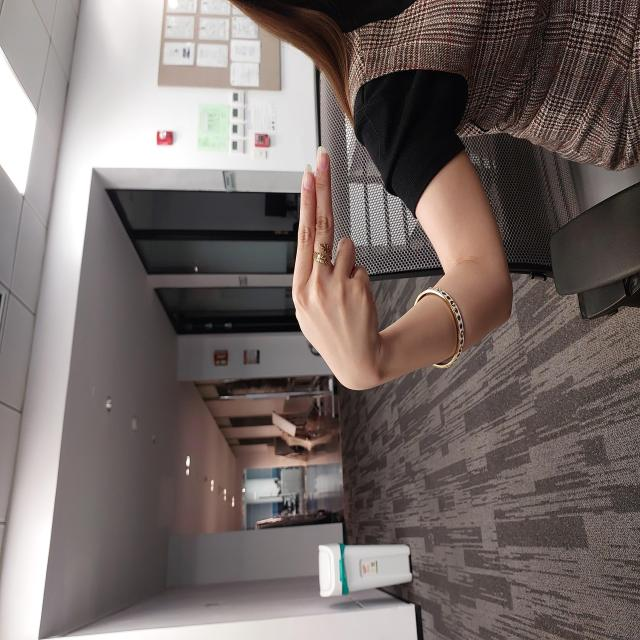H: (247, 288, 497, 386)
